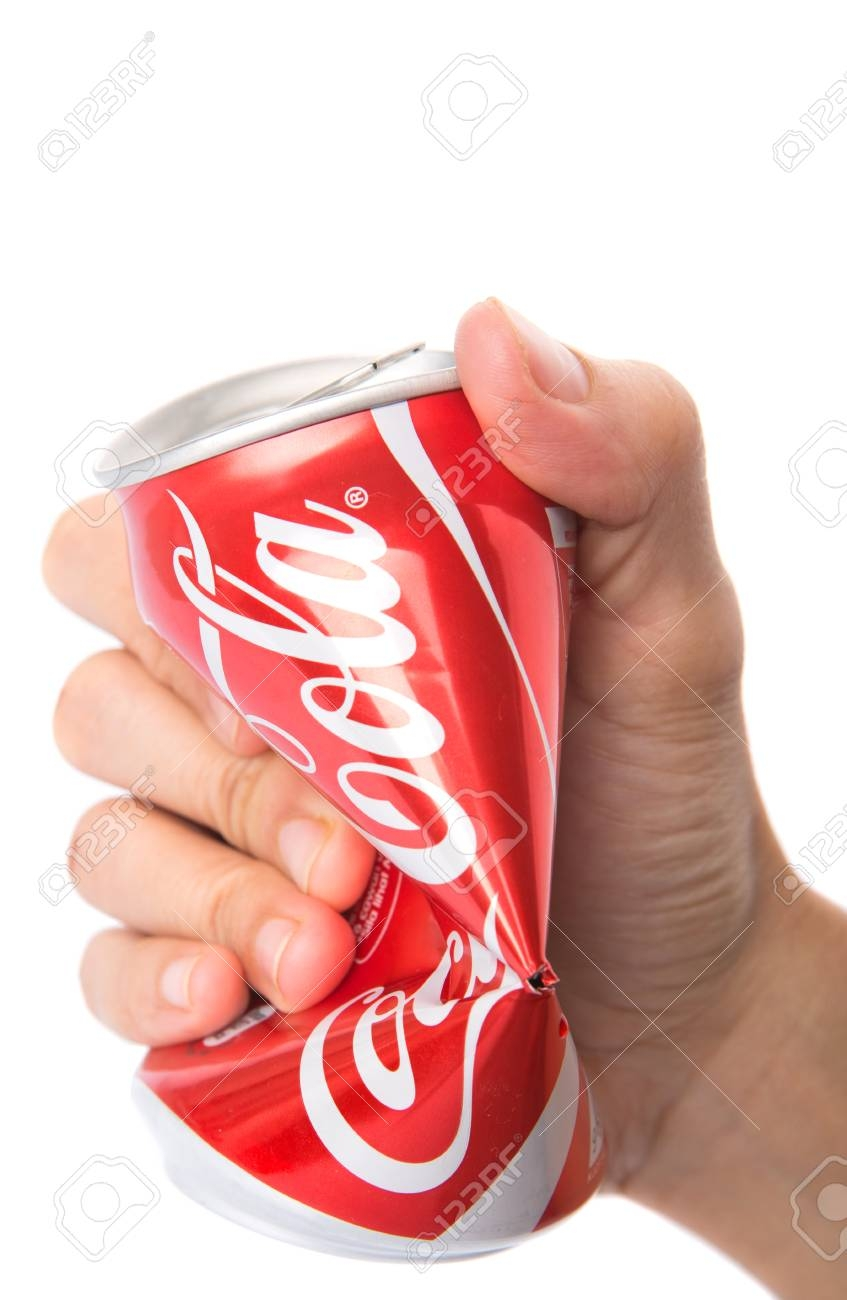metal: (64, 314, 624, 1284)
